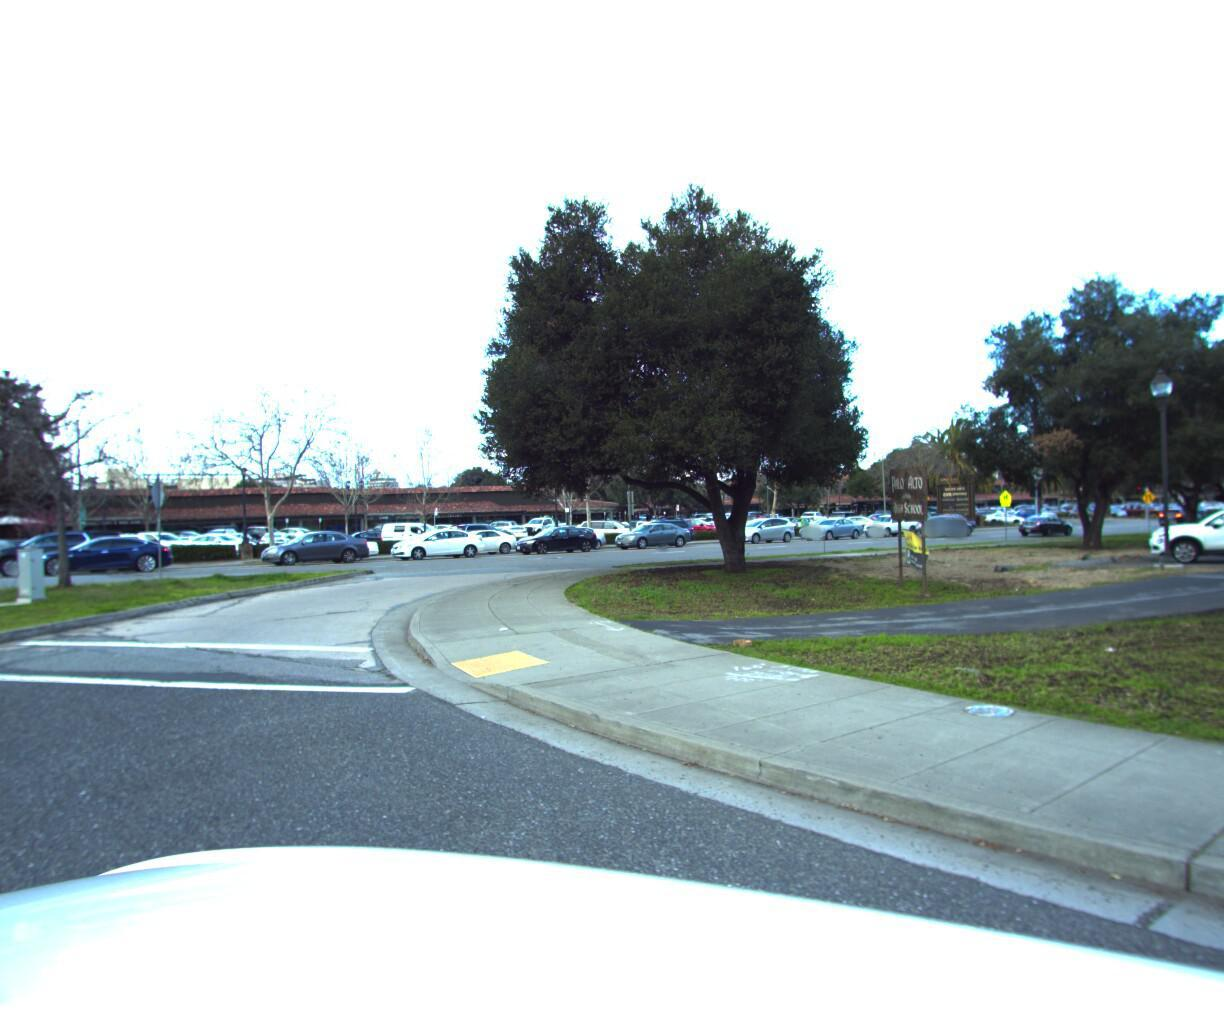car: (24, 528, 176, 574), (251, 522, 374, 563), (379, 519, 490, 557), (262, 527, 381, 562), (506, 518, 603, 550), (428, 521, 521, 553), (604, 514, 695, 545), (119, 523, 207, 555), (612, 513, 702, 543), (530, 518, 610, 546), (722, 509, 799, 539), (377, 514, 455, 541), (854, 503, 925, 533), (190, 524, 265, 551), (798, 508, 870, 535), (576, 510, 642, 538), (1013, 504, 1073, 530), (914, 505, 974, 530), (667, 509, 723, 532), (839, 506, 889, 524)
